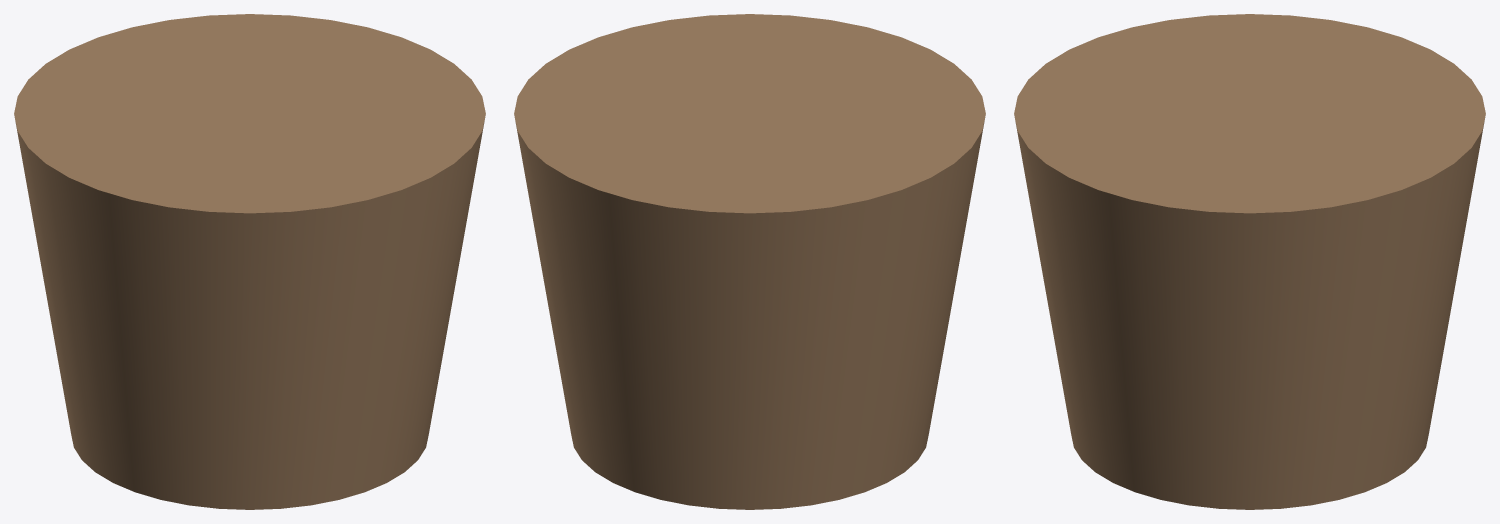
File: leg.gltf
The picture shows the model from 3 angles, left to right: view 1: azimuth 30°, elevation 25°; view 2: azimuth 150°, elevation 25°; view 3: azimuth 270°, elevation 25°; orthographic projection.
Visible parts, largest first — view 1: Leg; view 2: Leg; view 3: Leg.
Boxes of the visible parts, x1,y1,x2,y2 form: Leg: (14, 14, 485, 509); Leg: (514, 14, 985, 509); Leg: (1014, 14, 1485, 509).
Size of the model in its own units: 0.0508 by 0.0381 by 0.0508.
